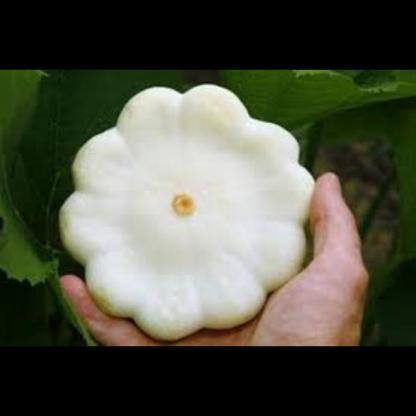squash-patisson: (55, 80, 332, 340)
